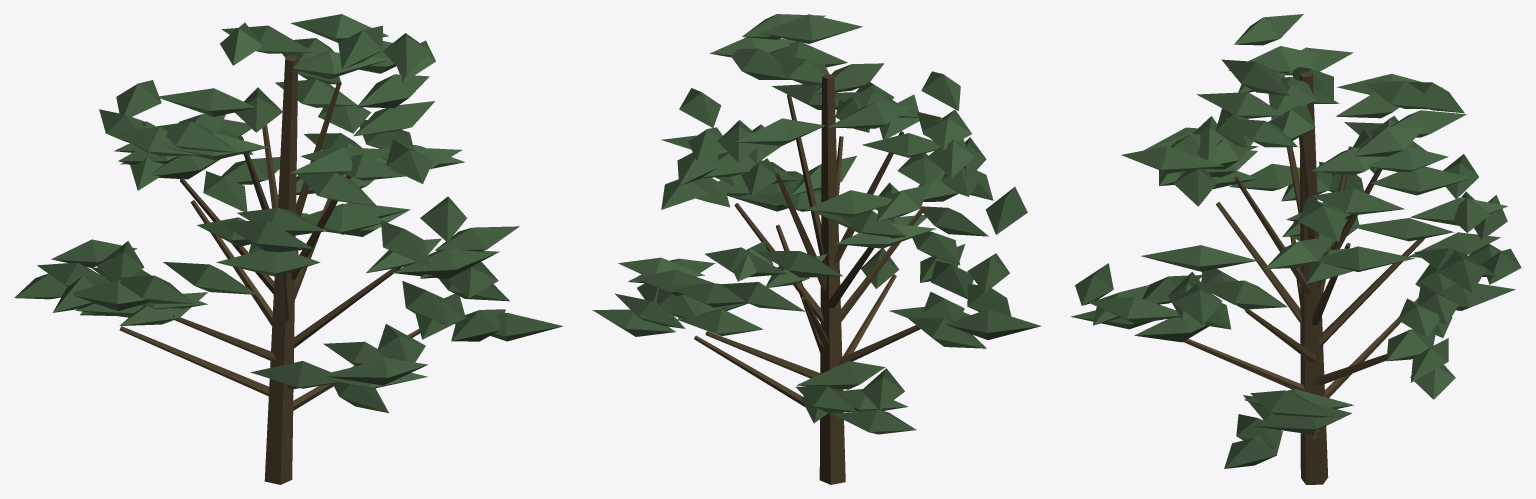
Rendered from tree-2.glb.
3 renders of one model, left to right at view 1: azimuth 30°, elevation 25°; view 2: azimuth 150°, elevation 25°; view 3: azimuth 270°, elevation 25°, orthographic. The views are drawn at different scales.
Parts seen in each view (by area): view 1: Branched crown.004; view 2: Branched crown.004; view 3: Branched crown.004.
Part boxes in pixels (x1,y1,x2,y2): Branched crown.004: (14,14,563,484); Branched crown.004: (592,14,1041,484); Branched crown.004: (1070,14,1521,484).
Size of the model in its own units: 1.26 by 1.19 by 1.1.
